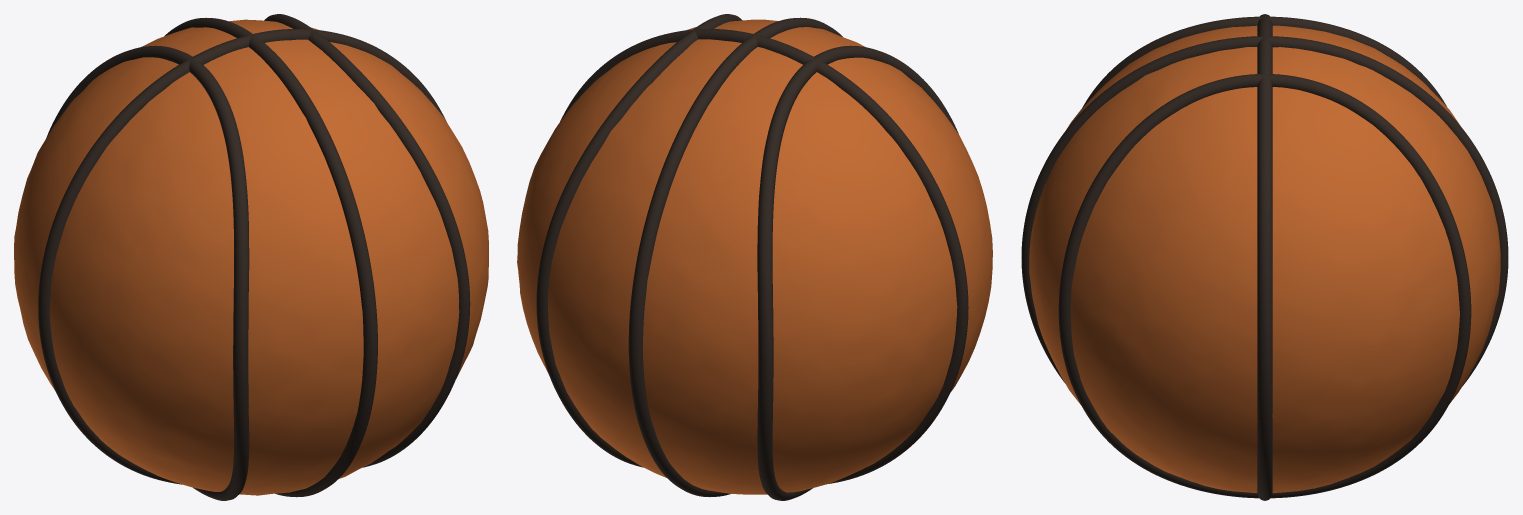
File: basketball.glb
3 views of the same model, side by side, from view 1: azimuth 30°, elevation 25°; view 2: azimuth 150°, elevation 25°; view 3: azimuth 270°, elevation 25° (orthographic).
Visible parts, largest first — view 1: basketball, seam_L, seam_eq, seam_center, seam_R; view 2: basketball, seam_L, seam_eq, seam_center, seam_R; view 3: basketball, seam_R, seam_center, seam_eq, seam_L.
Boxes of the visible parts, x1,y1,x2,y2 form: basketball: (14, 19, 488, 495); seam_L: (46, 45, 249, 500); seam_eq: (38, 29, 445, 484); seam_center: (164, 17, 377, 497); seam_R: (264, 14, 470, 467); basketball: (517, 19, 992, 494); seam_L: (757, 45, 958, 500); seam_eq: (560, 29, 968, 483); seam_center: (628, 17, 842, 497); seam_R: (536, 14, 742, 467); basketball: (1029, 25, 1500, 492); seam_R: (1058, 74, 1471, 498); seam_center: (1021, 36, 1508, 386); seam_eq: (1257, 14, 1272, 500); seam_L: (1082, 16, 1446, 107).
Size of the model in its own units: 2.06 by 2.06 by 2.06.
